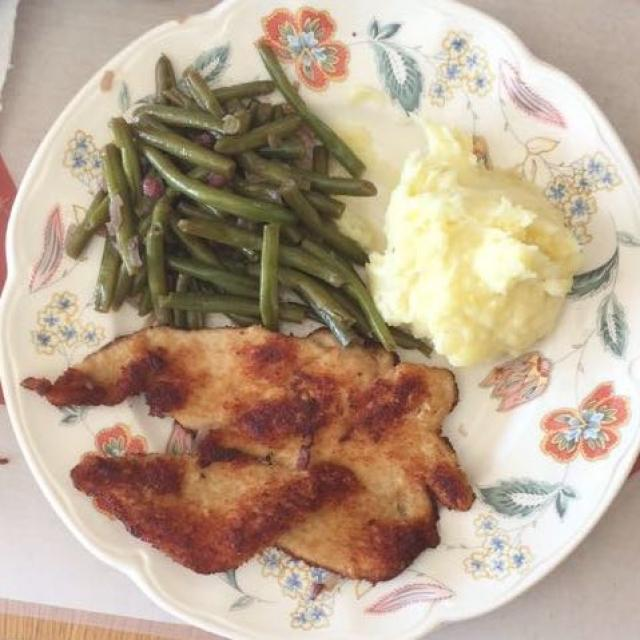french-beans: (75, 54, 369, 324)
mashed-potatoes-prepared-with-full-fat-milk-with-butter: (371, 130, 574, 360)
